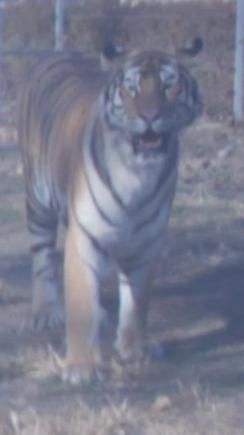tiger: (17, 50, 200, 381)
